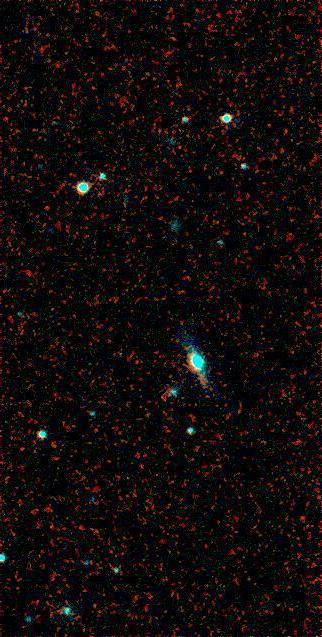star: (33, 193, 63, 223)
